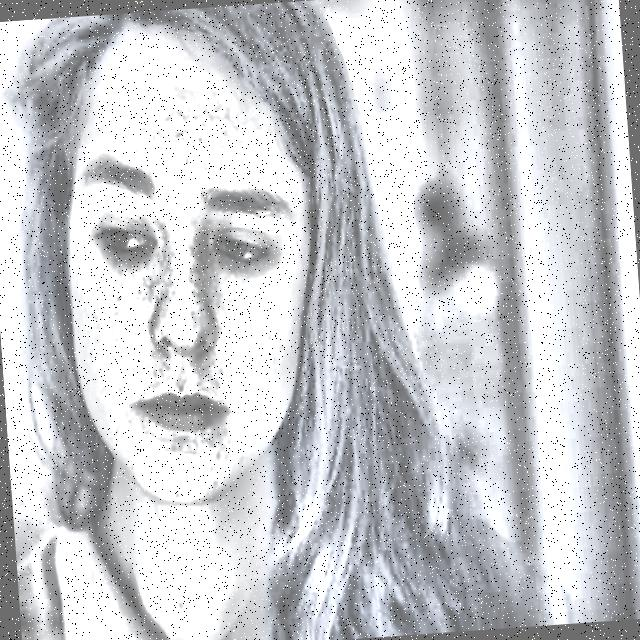sad: (0, 5, 373, 525)
